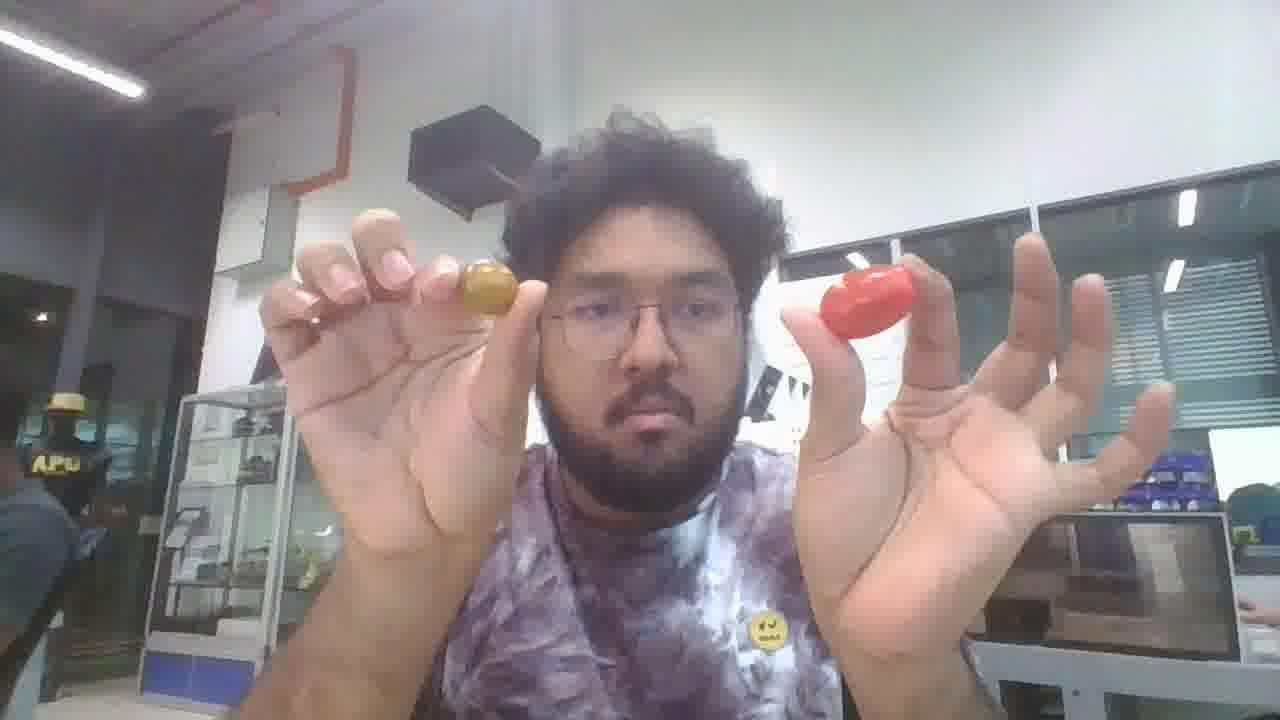red_cherry_tomato: (820, 266, 915, 340)
yellow_cherry_tomato: (461, 261, 517, 315)
